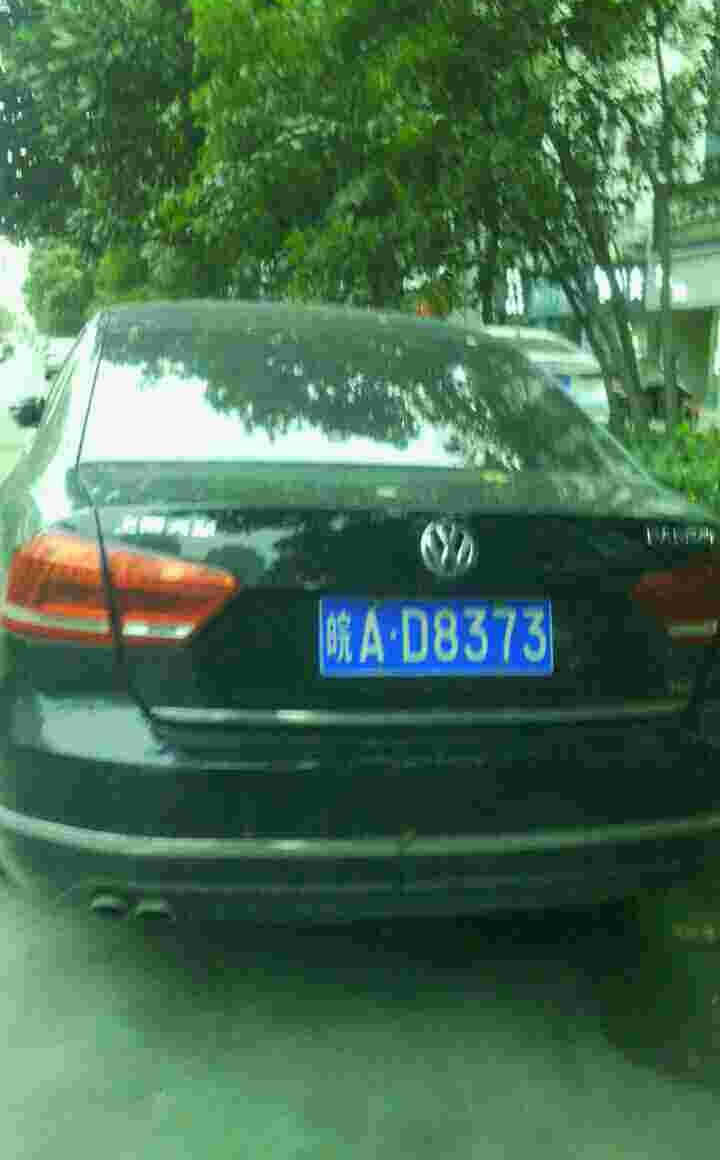car: (313, 601, 562, 673)
